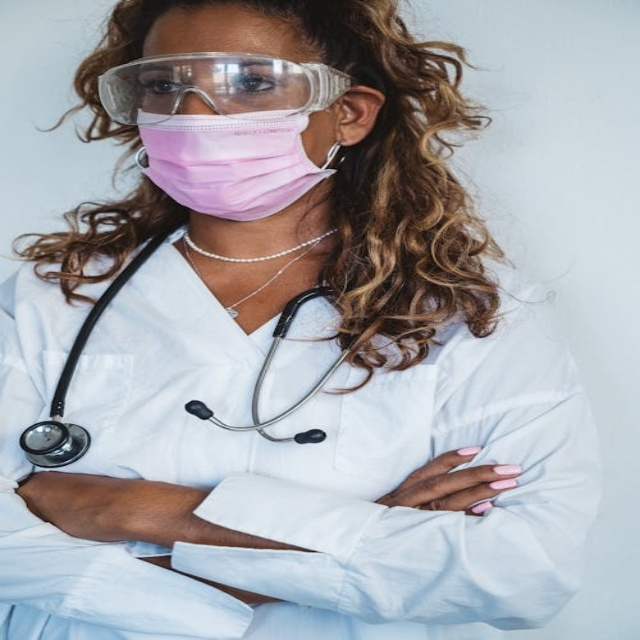Mascara: (126, 84, 344, 218)
Sin_guantes: (375, 446, 519, 517)
